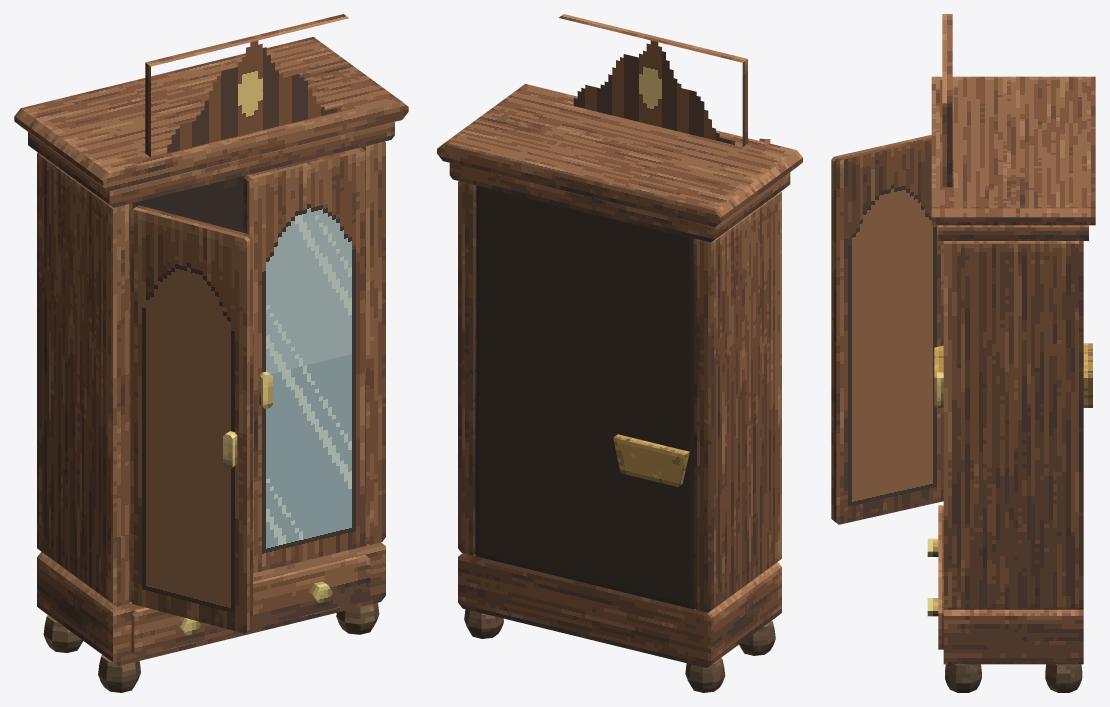
The model's file is armoire.glb.
3 renders of one model, left to right at view 1: azimuth 30°, elevation 25°; view 2: azimuth 150°, elevation 25°; view 3: azimuth 270°, elevation 25°, orthographic. The views are drawn at different scales.
Parts seen in each view (by area): view 1: door1, door, side, cornice2, crest, base, side1, drawer, cornice, back, foot1, foot3 (+1 smaller); view 2: back, side, cornice2, base, crest, side1, cornice, coat, foot, foot2, foot1; view 3: side1, door1, cornice2, base, cornice, crest, coat, foot2, foot3, drawer.
Part boxes in pixels (bbox=[...]): door1: bbox=[130, 205, 252, 633]; door: bbox=[243, 147, 367, 573]; side: bbox=[37, 152, 132, 606]; cornice2: bbox=[14, 37, 408, 191]; crest: bbox=[145, 14, 348, 157]; base: bbox=[37, 542, 385, 665]; side1: bbox=[361, 141, 385, 544]; drawer: bbox=[131, 554, 370, 656]; cornice: bbox=[28, 122, 394, 207]; back: bbox=[132, 175, 244, 232]; foot1: bbox=[98, 655, 140, 692]; foot3: bbox=[336, 603, 379, 634]; back: bbox=[475, 185, 695, 609]; side: bbox=[693, 191, 781, 612]; cornice2: bbox=[437, 84, 802, 227]; base: bbox=[458, 553, 781, 667]; crest: bbox=[559, 14, 747, 146]; side1: bbox=[458, 181, 476, 555]; cornice: bbox=[449, 163, 790, 242]; coat: bbox=[613, 434, 689, 486]; foot: bbox=[685, 657, 725, 692]; foot2: bbox=[464, 609, 503, 638]; foot1: bbox=[739, 620, 775, 655]; side1: bbox=[943, 241, 1083, 609]; door1: bbox=[831, 135, 943, 524]; cornice2: bbox=[931, 76, 1095, 225]; base: bbox=[943, 609, 1083, 664]; cornice: bbox=[938, 225, 1088, 240]; crest: bbox=[942, 14, 952, 187]; coat: bbox=[934, 343, 1092, 407]; foot2: bbox=[1045, 664, 1082, 692]; foot3: bbox=[945, 664, 981, 692]; drawer: bbox=[938, 505, 943, 649].
Bounding box in the file's own units: 1.54 × 3 × 1.25.
1 material, 1 textured.
